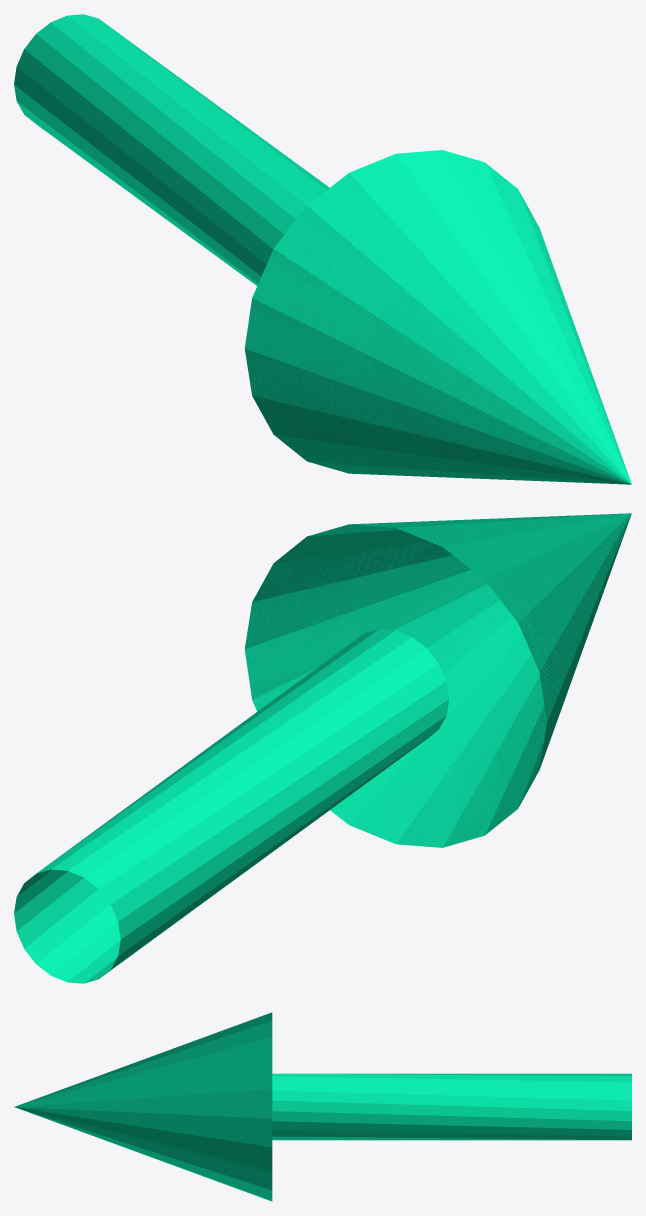
Rendered from arrow.gltf.
The picture shows the model from 3 angles, top to bottom: view 1: azimuth 30°, elevation 25°; view 2: azimuth 150°, elevation 25°; view 3: azimuth 270°, elevation 25°; orthographic projection. The views are drawn at different scales.
Parts seen in each view (by area): view 1: arrow.gltf; view 2: arrow.gltf; view 3: arrow.gltf.
Boxes of the visible parts, bbox=[...] form: arrow.gltf: bbox=[14, 14, 631, 484]; arrow.gltf: bbox=[14, 513, 631, 983]; arrow.gltf: bbox=[14, 1012, 631, 1201].
Size of the model in its own units: 0.17 by 0.17 by 0.55.
